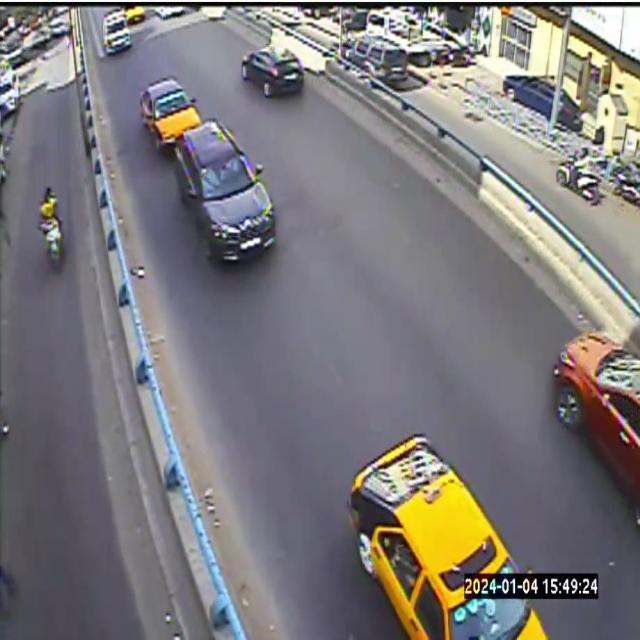car: (347, 435, 547, 639), (553, 331, 639, 525), (174, 121, 275, 260), (140, 77, 201, 148), (242, 45, 304, 97), (102, 9, 131, 53)
